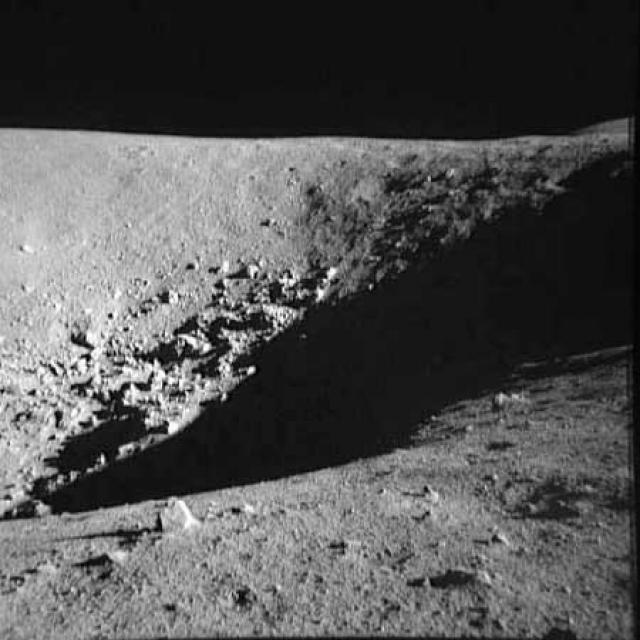rock: (0, 235, 347, 516), (143, 489, 201, 542), (3, 560, 62, 599), (439, 562, 492, 594), (92, 546, 134, 576), (493, 382, 533, 412), (408, 503, 448, 528), (418, 473, 447, 499), (574, 476, 602, 501), (333, 538, 366, 556), (423, 536, 455, 554), (518, 496, 545, 516), (484, 464, 504, 489), (452, 421, 474, 443), (492, 530, 516, 549)
